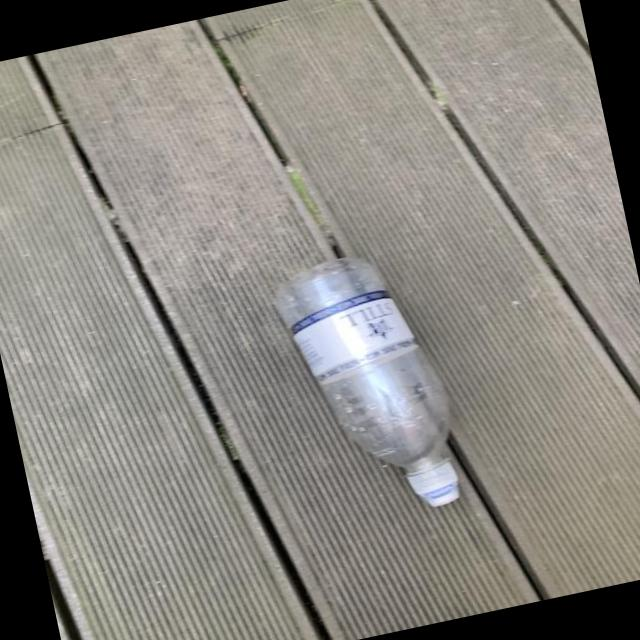plastic_bottle: (266, 242, 470, 530)
